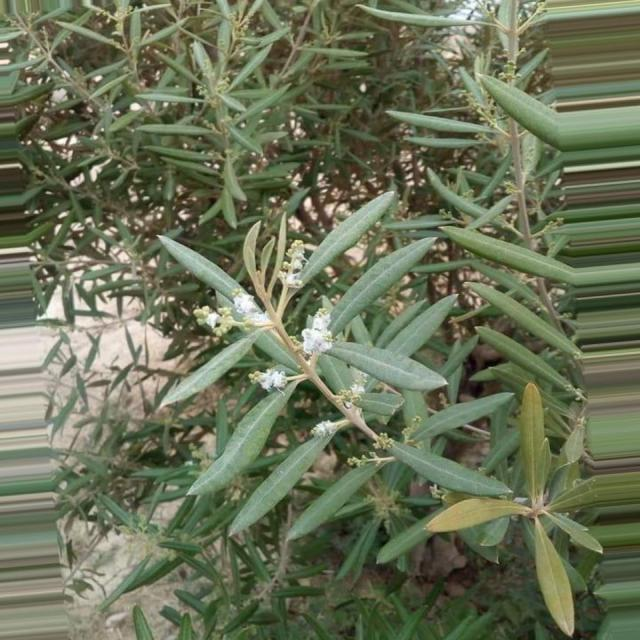Psyllid: (300, 309, 336, 362), (278, 241, 306, 298), (233, 288, 269, 328), (338, 368, 370, 408), (250, 369, 292, 392), (311, 420, 337, 438)
